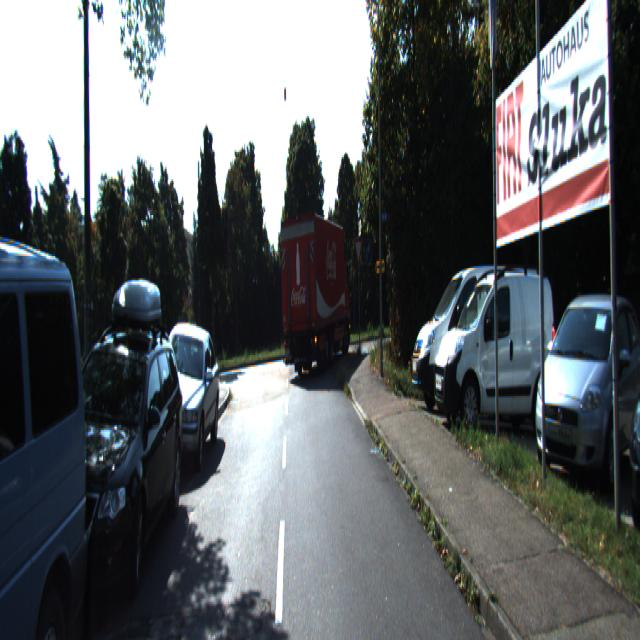Car: (18, 322, 186, 638), (431, 264, 558, 437), (534, 296, 640, 502), (148, 316, 224, 485), (630, 280, 640, 538)
Truck: (277, 212, 351, 382)
Van: (0, 216, 99, 638), (409, 259, 548, 416)
